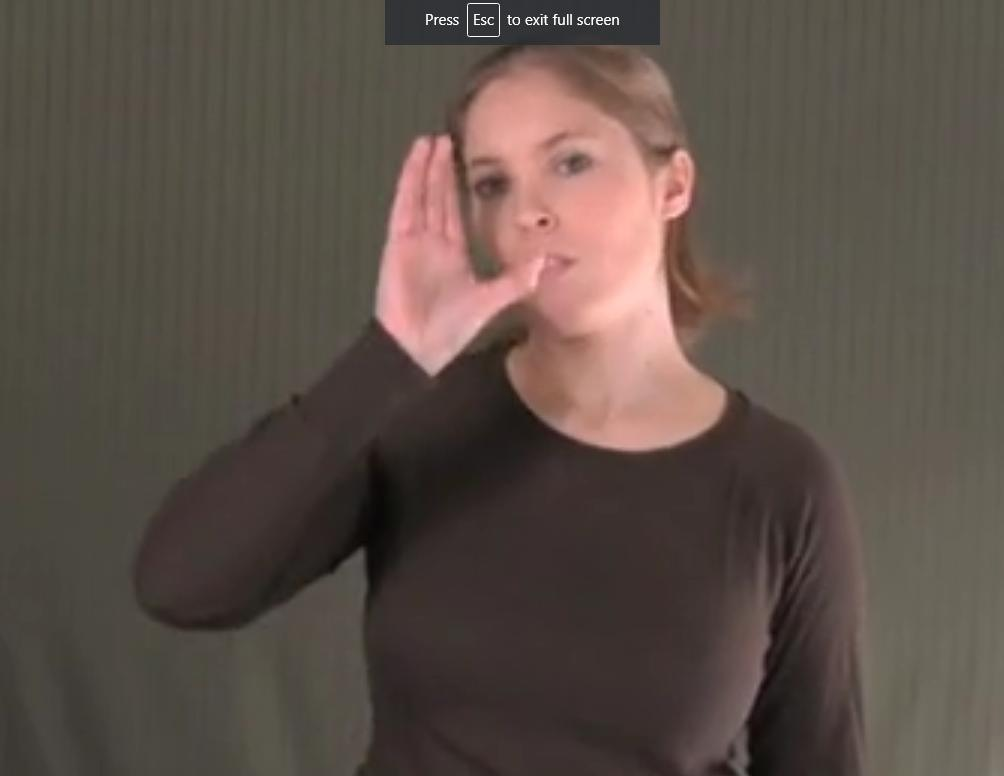drink: (279, 112, 551, 442)
